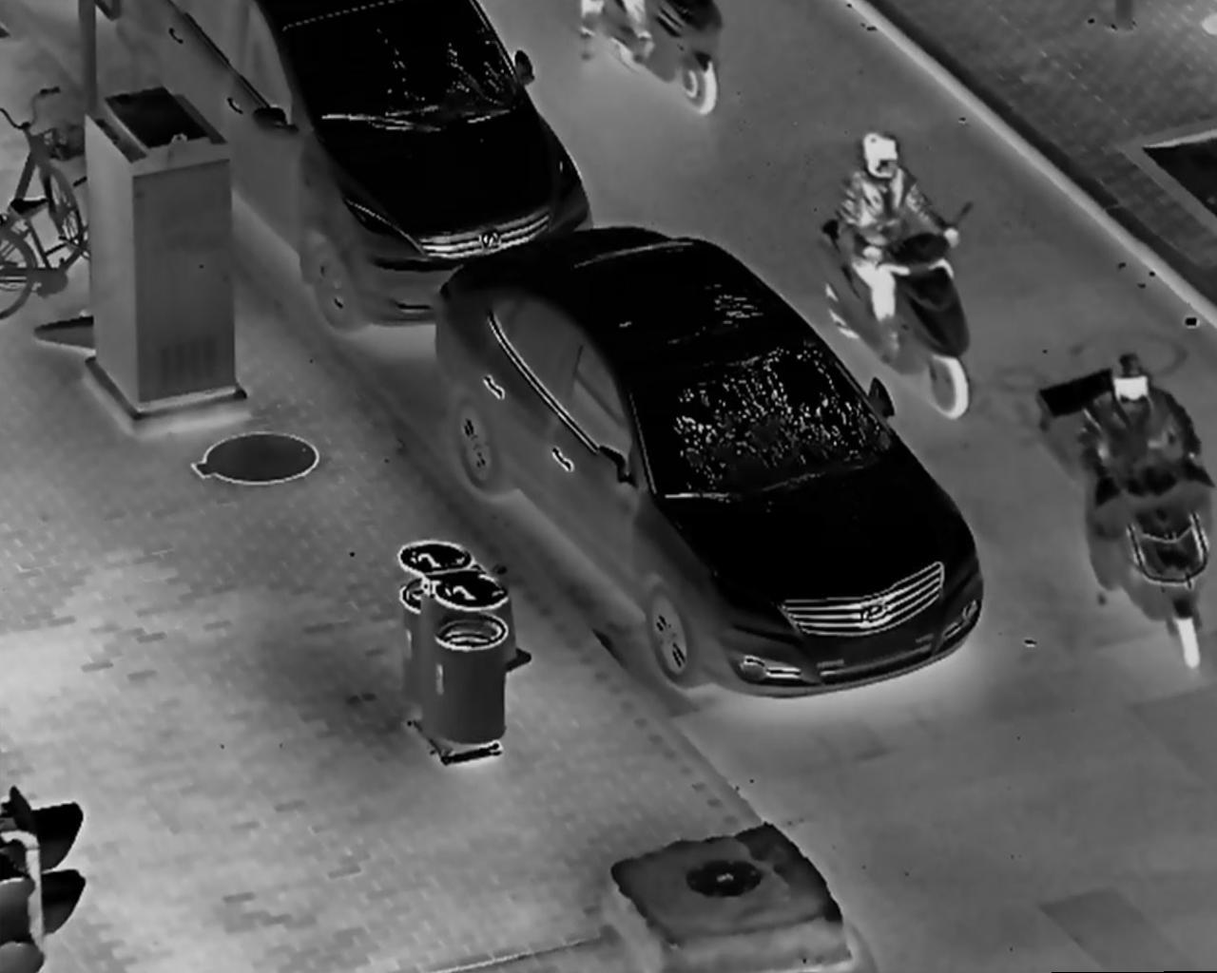person: (1073, 351, 1215, 614), (833, 125, 959, 367)
